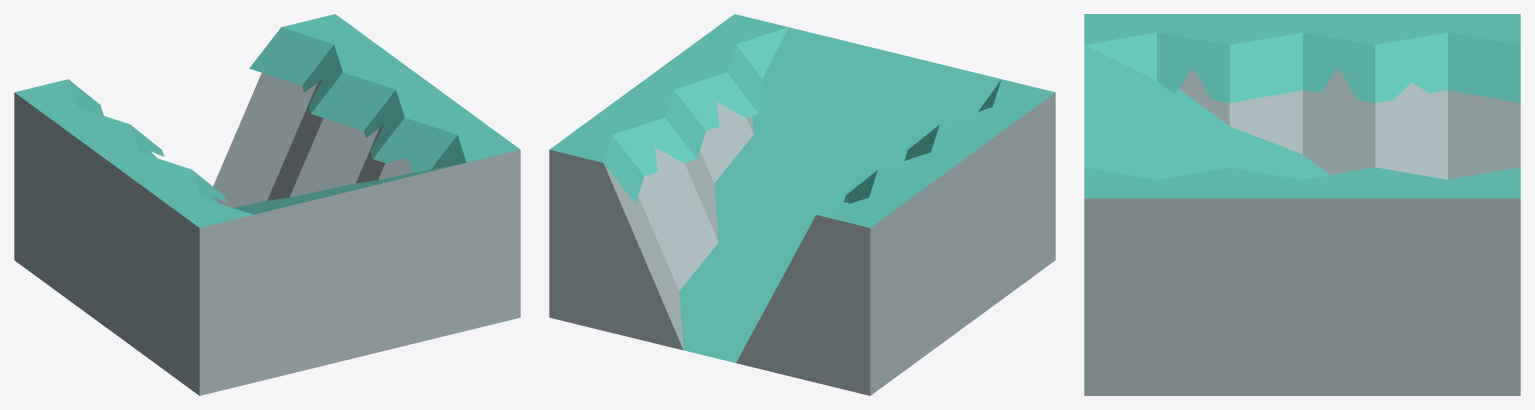
The model's file is cliff_blockSlopeHalfWalls_stone.glb.
The picture shows the model from 3 angles, left to right: view 1: azimuth 30°, elevation 25°; view 2: azimuth 150°, elevation 25°; view 3: azimuth 270°, elevation 25°; orthographic projection. The views are drawn at different scales.
Visible parts, largest first — view 1: cliff_blockSlopeHalfWalls_stone; view 2: cliff_blockSlopeHalfWalls_stone; view 3: cliff_blockSlopeHalfWalls_stone.
Boxes of the visible parts, bbox=[...] form: cliff_blockSlopeHalfWalls_stone: bbox=[14, 14, 520, 395]; cliff_blockSlopeHalfWalls_stone: bbox=[549, 14, 1055, 395]; cliff_blockSlopeHalfWalls_stone: bbox=[1084, 14, 1520, 395].
Size of the model in its own units: 1 by 0.5 by 1.
